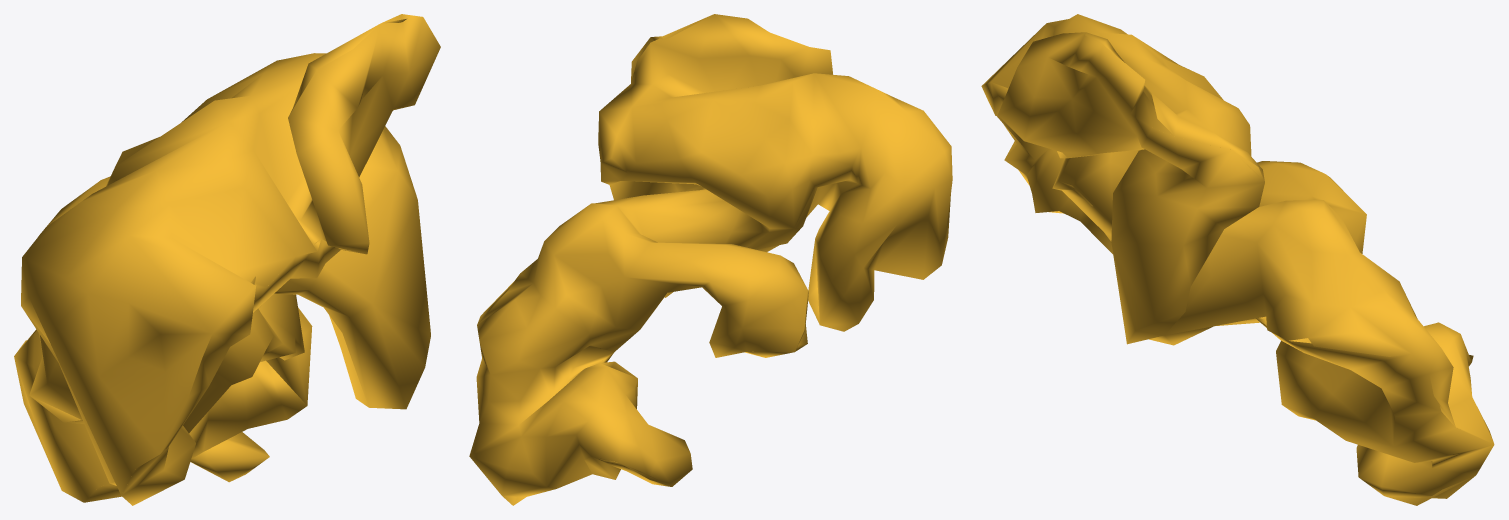
File: nervoso-superior-parietal-lobule-r.glb
The picture shows the model from 3 angles, left to right: view 1: azimuth 30°, elevation 25°; view 2: azimuth 150°, elevation 25°; view 3: azimuth 270°, elevation 25°; orthographic projection. The views are drawn at different scales.
Visible parts, largest first — view 1: Superior parietal lobule.r; view 2: Superior parietal lobule.r; view 3: Superior parietal lobule.r.
Part boxes in pixels (bbox=[...]): Superior parietal lobule.r: bbox=[14, 14, 440, 505]; Superior parietal lobule.r: bbox=[469, 14, 952, 505]; Superior parietal lobule.r: bbox=[981, 14, 1494, 505].
Bounding box in the file's own units: 0.0363 × 0.0418 × 0.0448.
